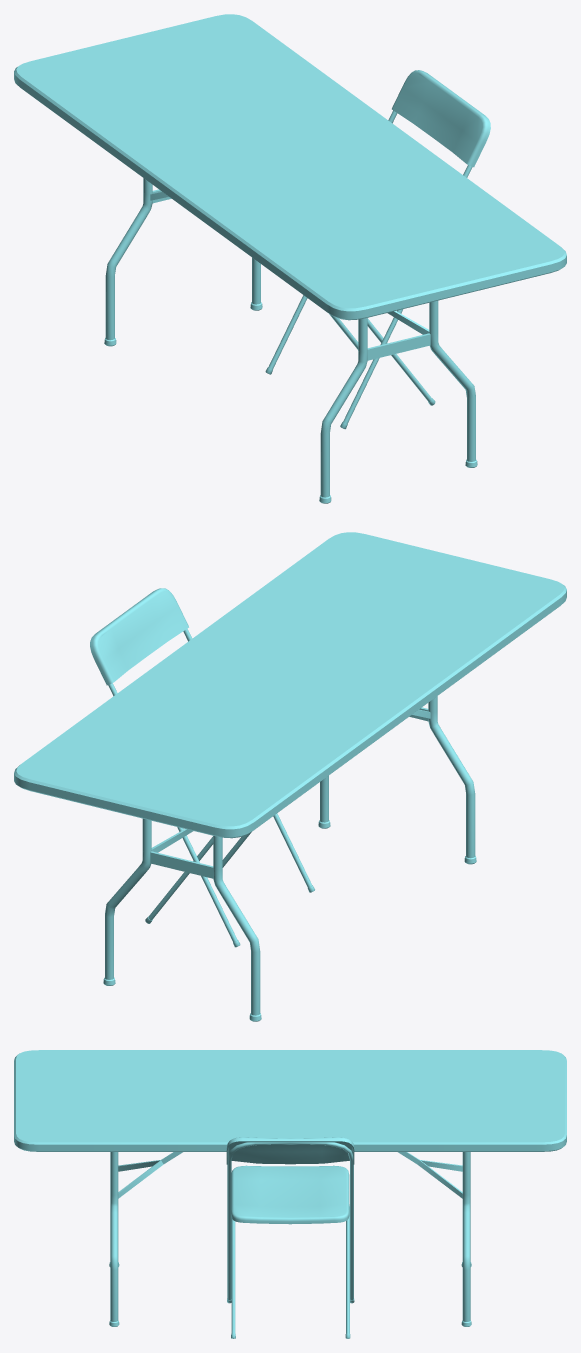
Rendered from Folding Table and Chair FBX.FBX.
The picture shows the model from 3 angles, top to bottom: view 1: azimuth 30°, elevation 25°; view 2: azimuth 150°, elevation 25°; view 3: azimuth 270°, elevation 25°; orthographic projection. The views are drawn at different scales.
Visible parts, largest first — view 1: TABLE_Folding, CHAIR_Folding; view 2: TABLE_Folding, CHAIR_Folding; view 3: TABLE_Folding, CHAIR_Folding.
Part boxes in pixels (box(x1,y1,x2,y2)): TABLE_Folding: box(14, 14, 566, 503); CHAIR_Folding: box(265, 70, 490, 429); TABLE_Folding: box(14, 532, 566, 1021); CHAIR_Folding: box(90, 588, 314, 947); TABLE_Folding: box(14, 1050, 566, 1326); CHAIR_Folding: box(226, 1137, 354, 1338).
Bounding box in the file's own units: 37.78 × 34.78 × 77.92.
